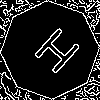H: (25, 25, 83, 84)
